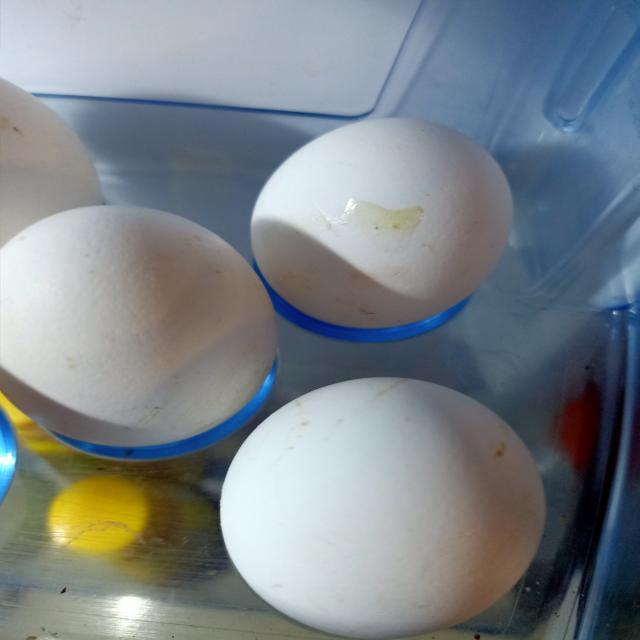Egg: (218, 377, 547, 640), (0, 204, 280, 463), (250, 117, 515, 343)
